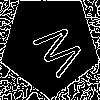W: (25, 20, 87, 85)
